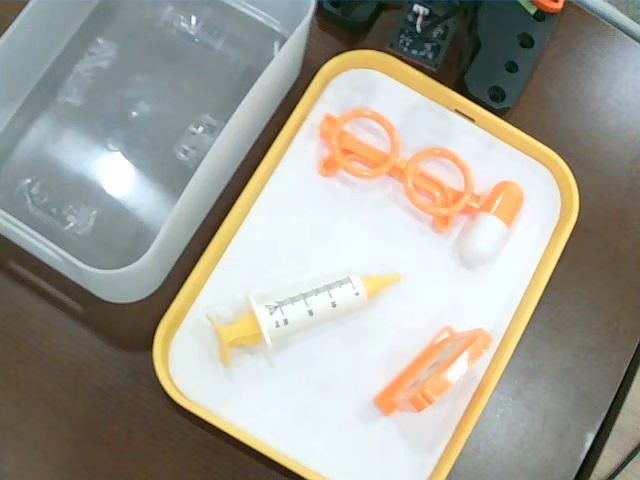pill: (459, 181, 525, 267)
syringe: (205, 272, 401, 369)
